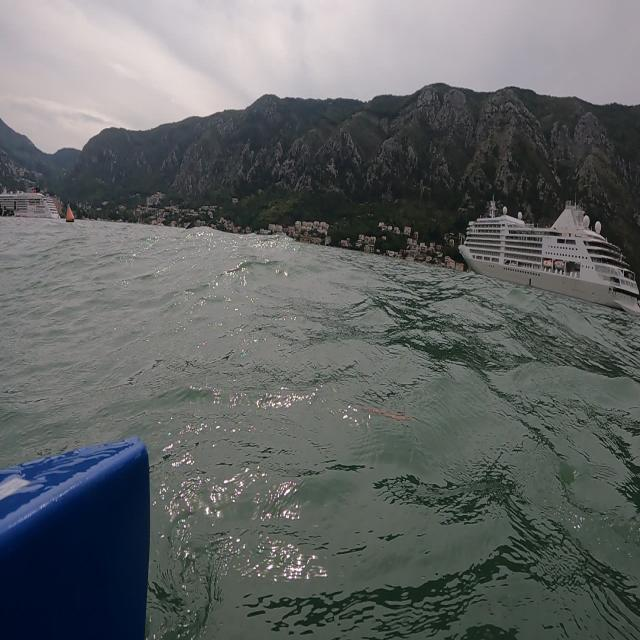boat: (457, 190, 638, 318), (0, 179, 63, 242)
buoy: (64, 200, 78, 232)
